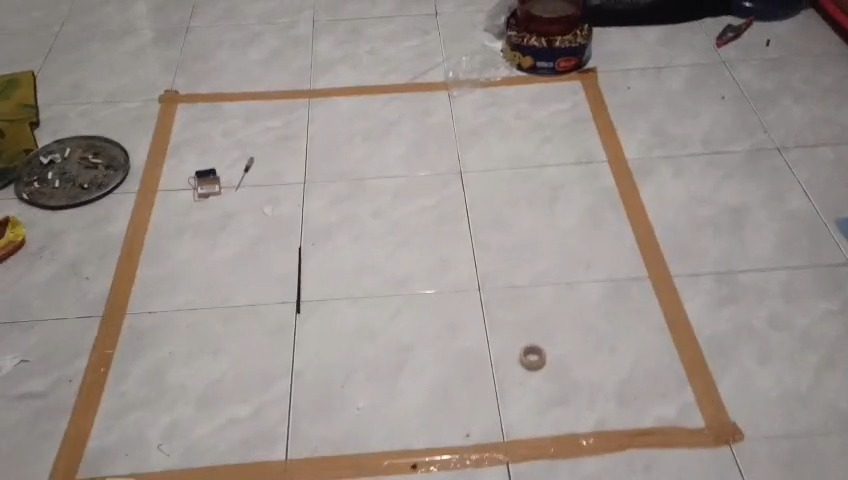floor marking: (50, 69, 743, 479)
